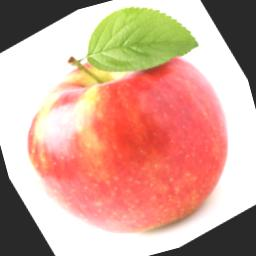Apple Ripe: (0, 14, 255, 256)
